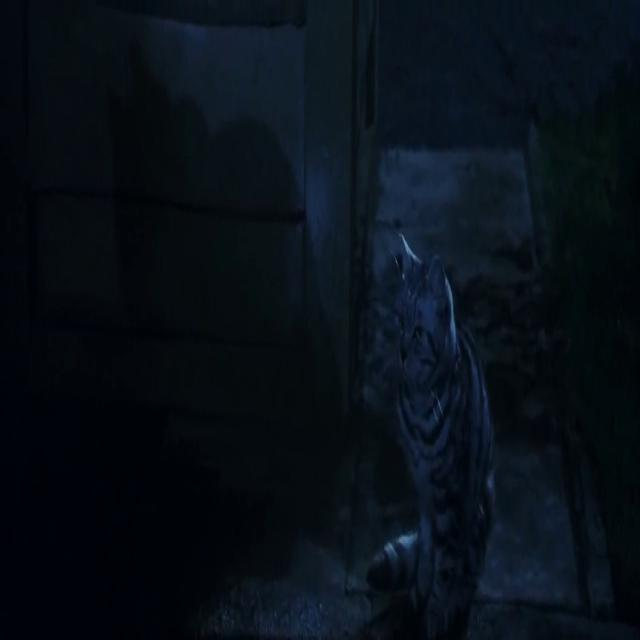Cat: (362, 200, 495, 640)
